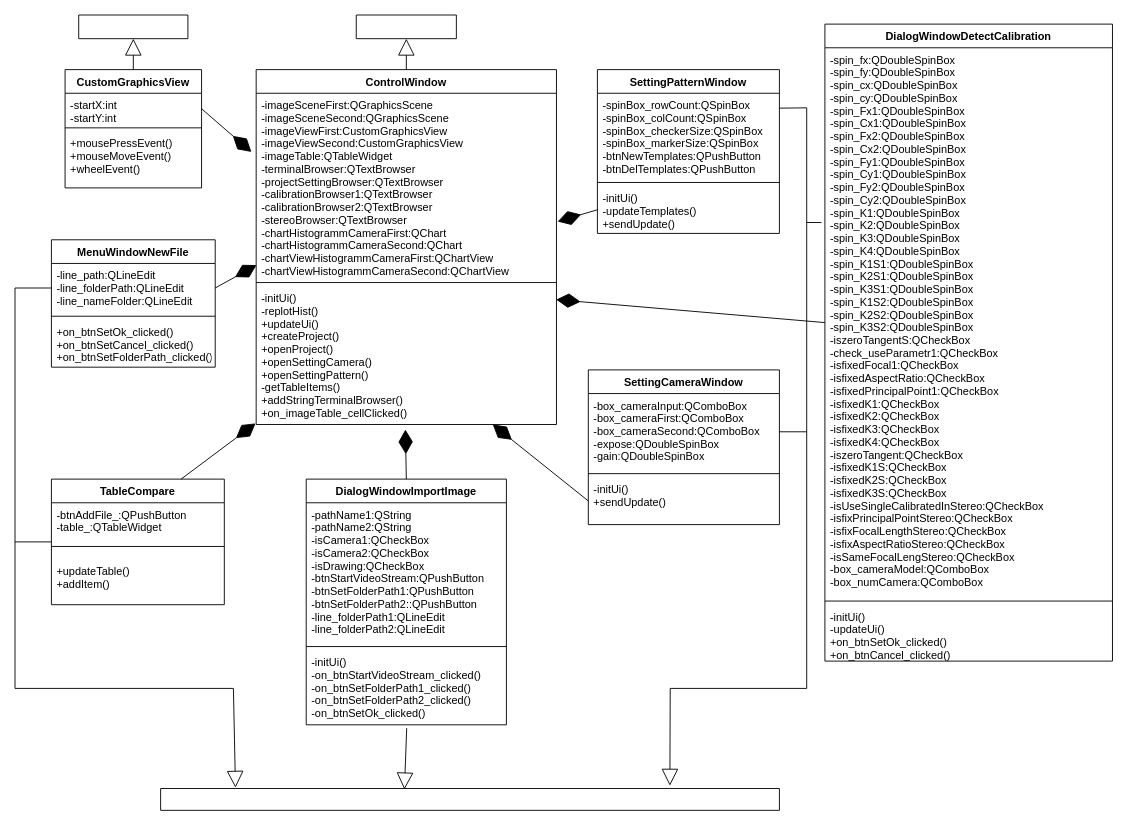
Some shapes in this 1127 by 825 pixel diagram are drawn without their labels. The shapes that lost their labels are listed below. From the top down, each one's centre as x and y in pixels, then its label:
pixel 133 26: QGraphicsView
pixel 405 26: QMainWindow
pixel 469 799: QWidget
